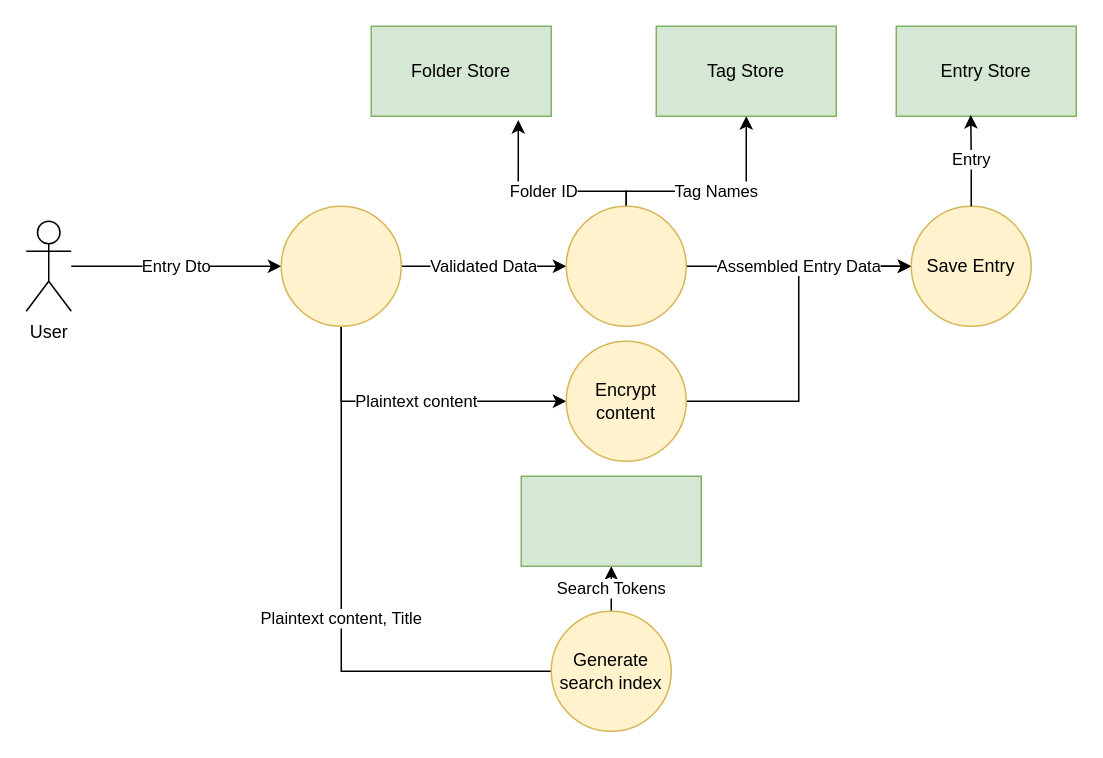
Some shapes in this 1103 by 758 pixel diagram are drawn without their labels. The box of each missing label's shape, as (x1, y1, x2, y2) in pixels:
Lookup supporting data: (565, 205, 686, 326)
Receive and validate entry: (280, 205, 401, 326)
Search token store: (520, 475, 701, 566)
